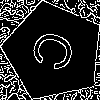C: (28, 27, 87, 79)
